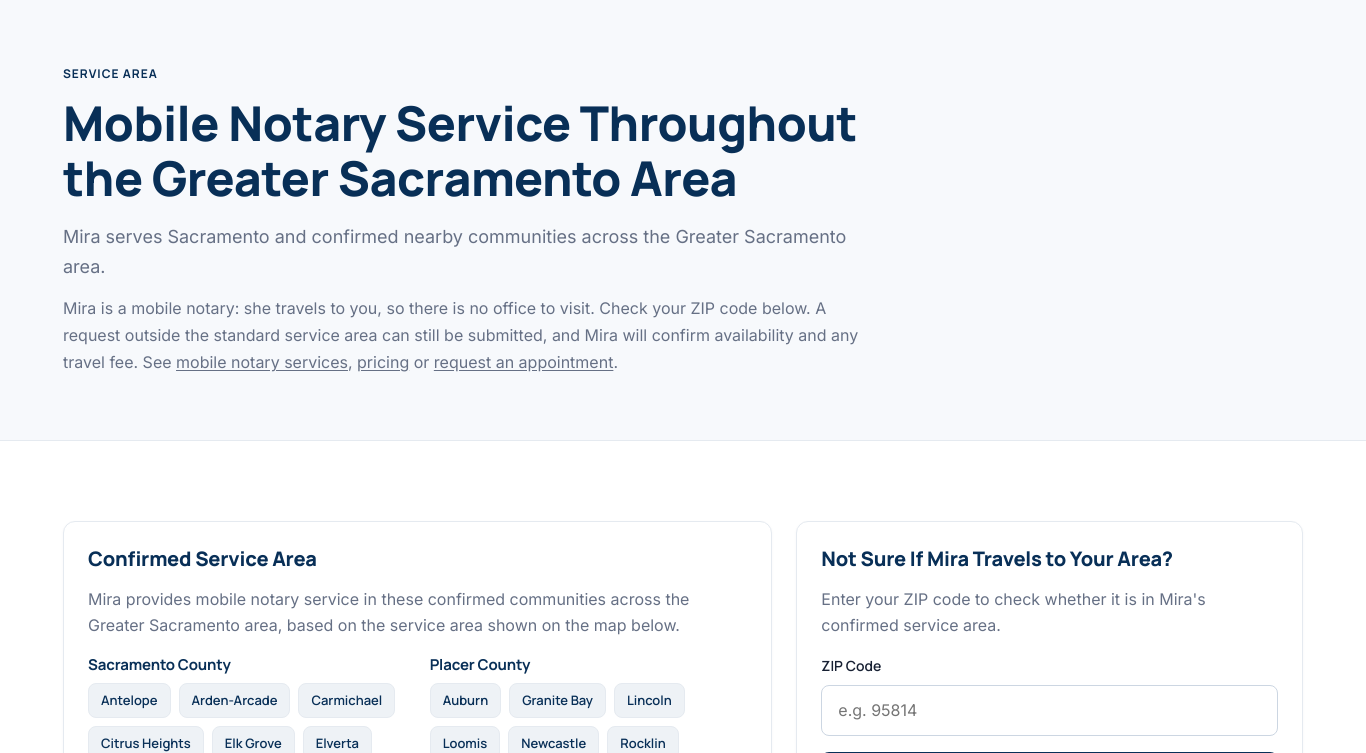
it: ServiceAreaComponent ZIP checker › format validation (exactly 5 digits) › pressing Check with a partial ZIP shows the format error and no result
In the field with id "zip": (1050, 711) [821,685,1278,736], type "9581"
(page scrolled)
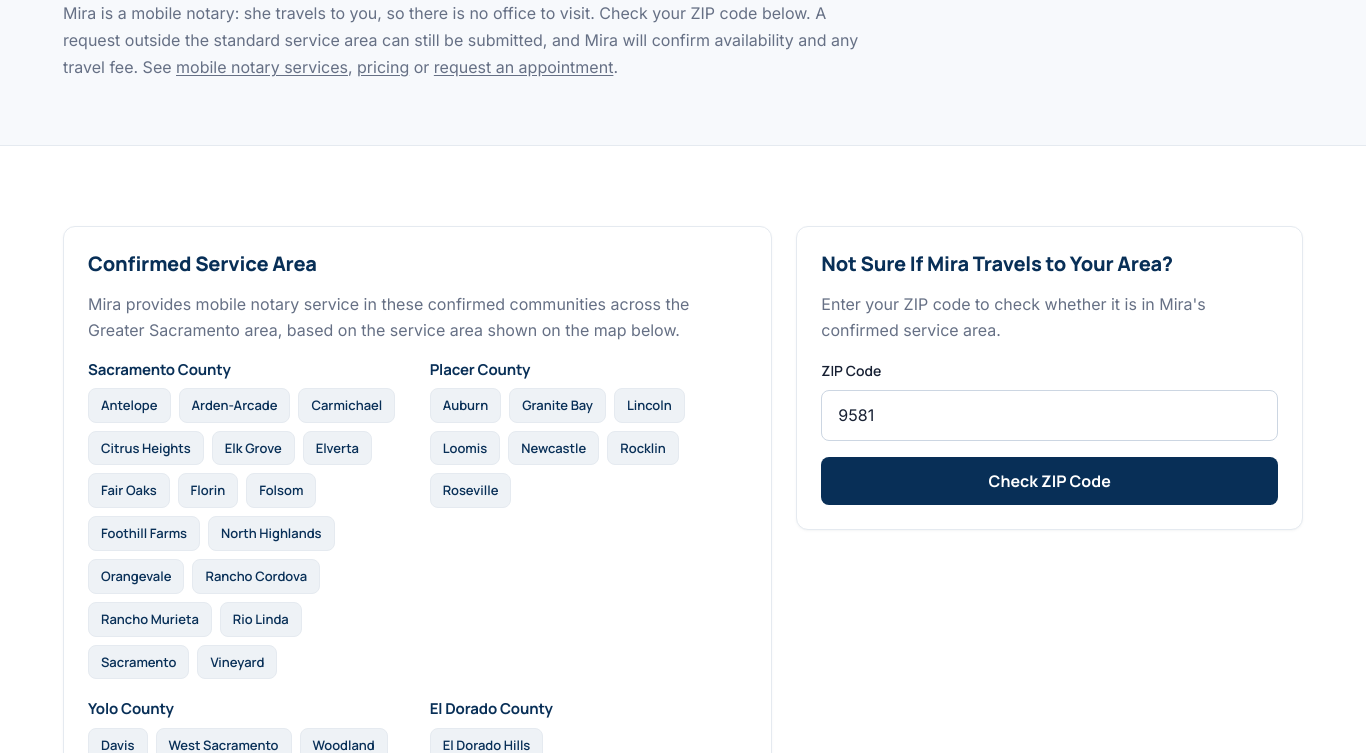
Submit the form, box [821,360,1278,506]
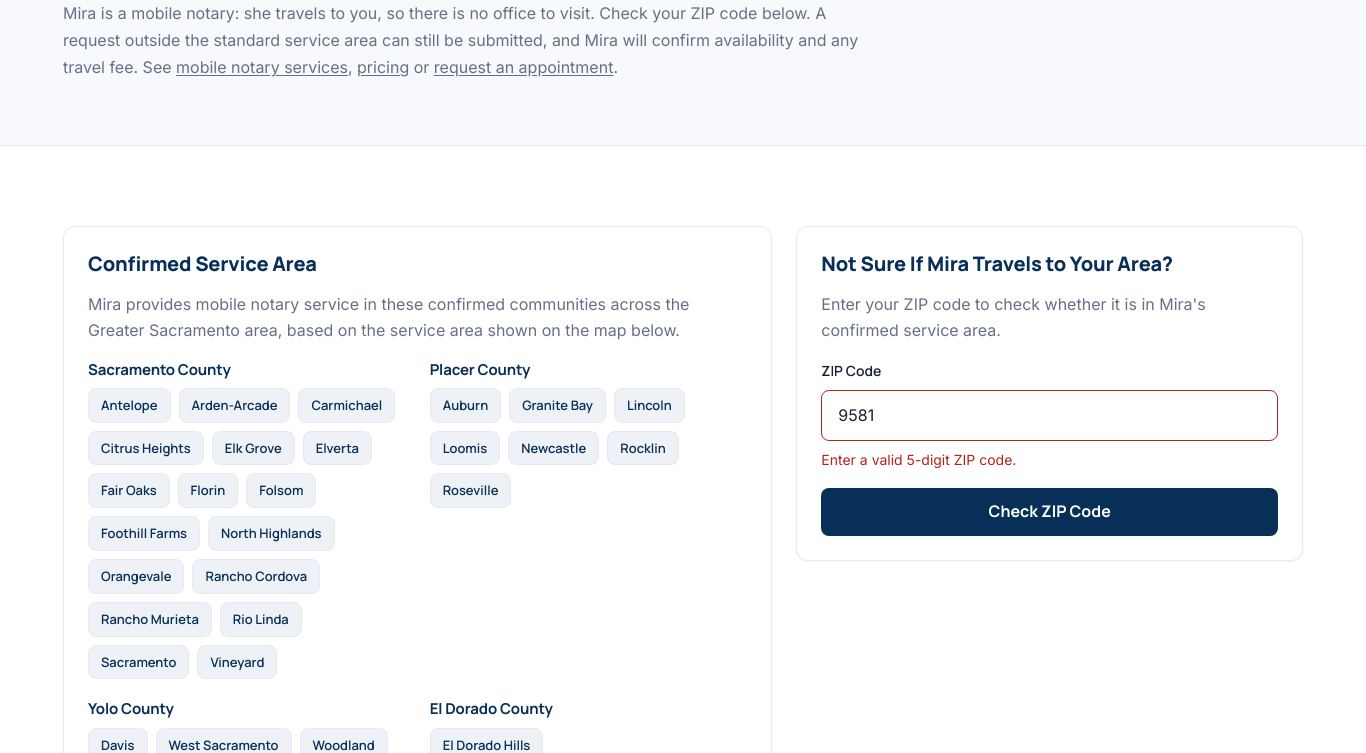
Check: the text with id "zip-error" reads "Enter a valid 5-digit ZIP code.", box [821,452,1016,468]
